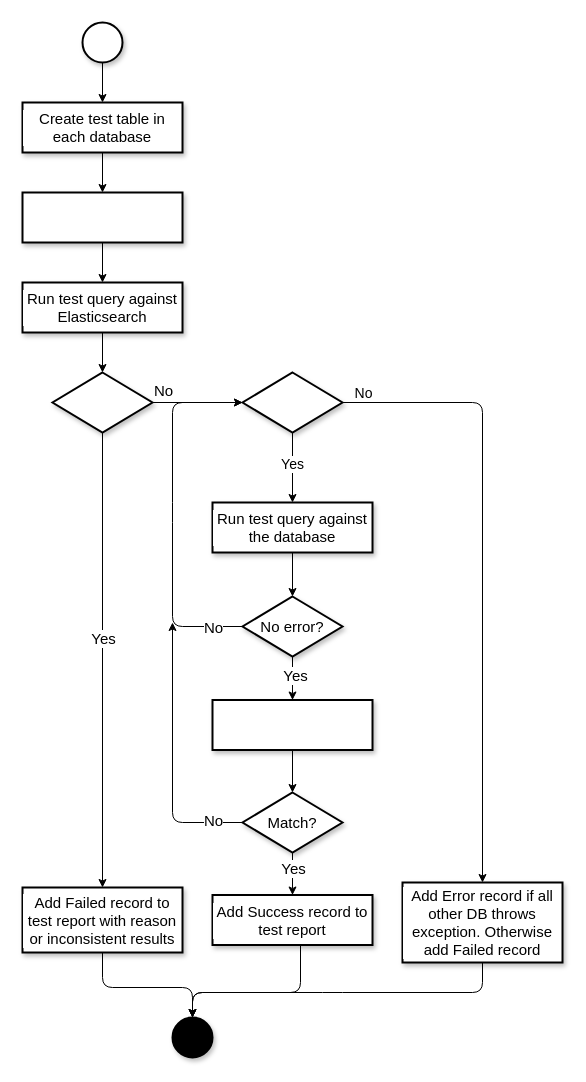
This 586x1082 diagram has some shape labels left out. The centre of each missing label's shape, as x and y in pixels:
Any DB to compare?: point 293,403
Any error?: point 103,403
Compare result sets from both sides: point 293,726
Load test data to each database: point 103,218
